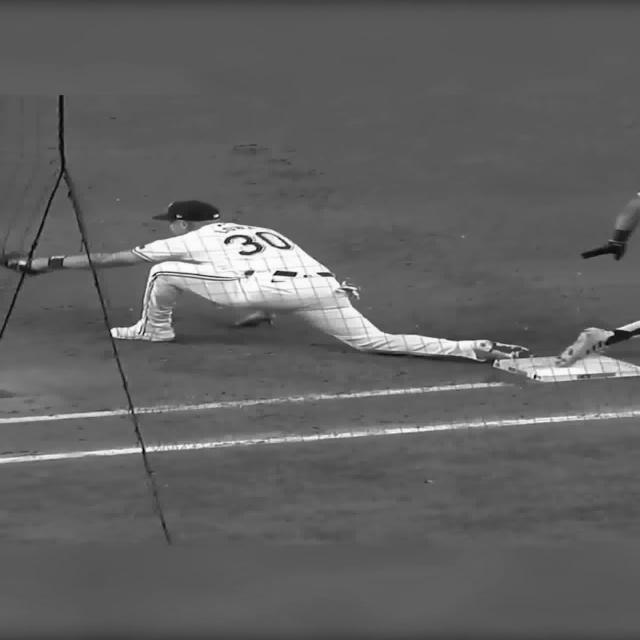base: (493, 355, 640, 382)
baseball_glove: (0, 252, 51, 275)
shoe: (556, 328, 613, 366), (460, 340, 529, 361), (111, 321, 176, 341)
